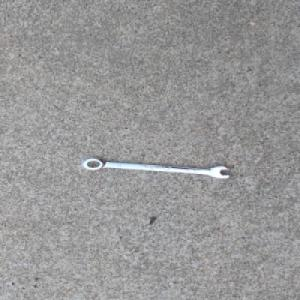Wrench: (80, 156, 232, 179)
